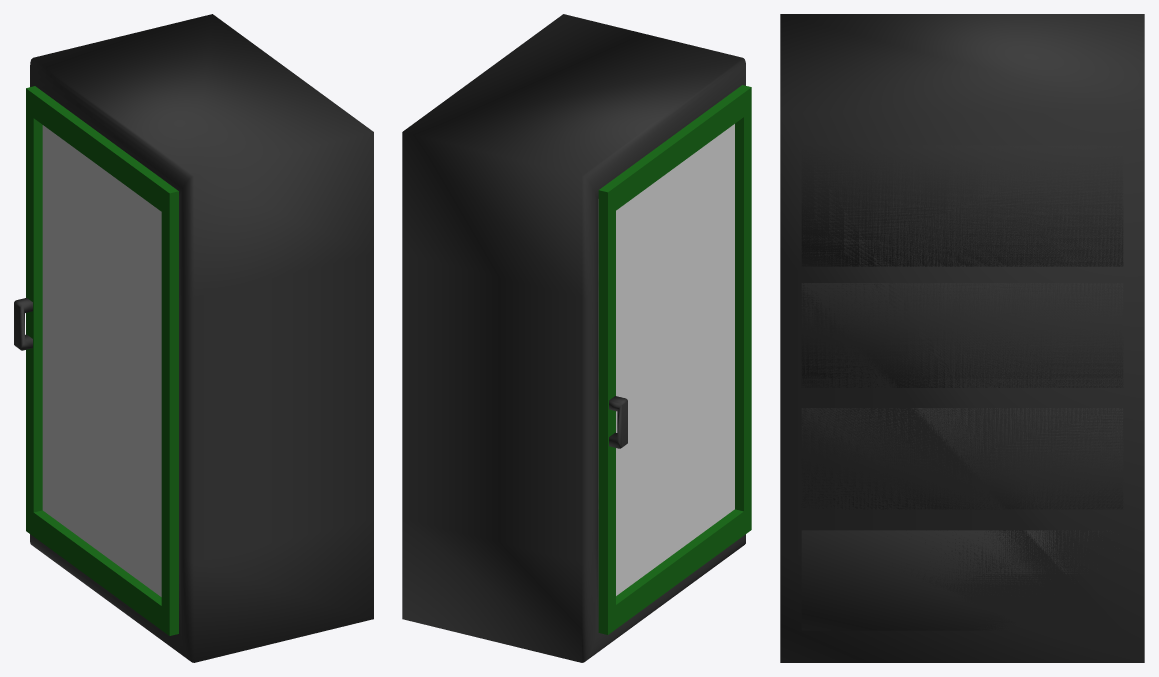
File: frigoVert.fbx
The picture shows the model from 3 angles, left to right: view 1: azimuth 30°, elevation 25°; view 2: azimuth 150°, elevation 25°; view 3: azimuth 270°, elevation 25°; orthographic projection. The views are drawn at different scales.
Parts seen in each view (by area): view 1: armoire, Porte, Poignée; view 2: armoire, Porte, Poignée; view 3: armoire.
Boxes of the visible parts, x1=… form: armoire: x1=30, y1=14, x2=373, y2=662; Porte: x1=26, y1=86, x2=178, y2=635; Poignée: x1=14, y1=298, x2=32, y2=350; armoire: x1=402, y1=14, x2=745, y2=662; Porte: x1=598, y1=85, x2=751, y2=634; Poignée: x1=609, y1=396, x2=627, y2=448; armoire: x1=780, y1=14, x2=1144, y2=662.
Size of the model in its own units: 449 by 1000 by 600.
